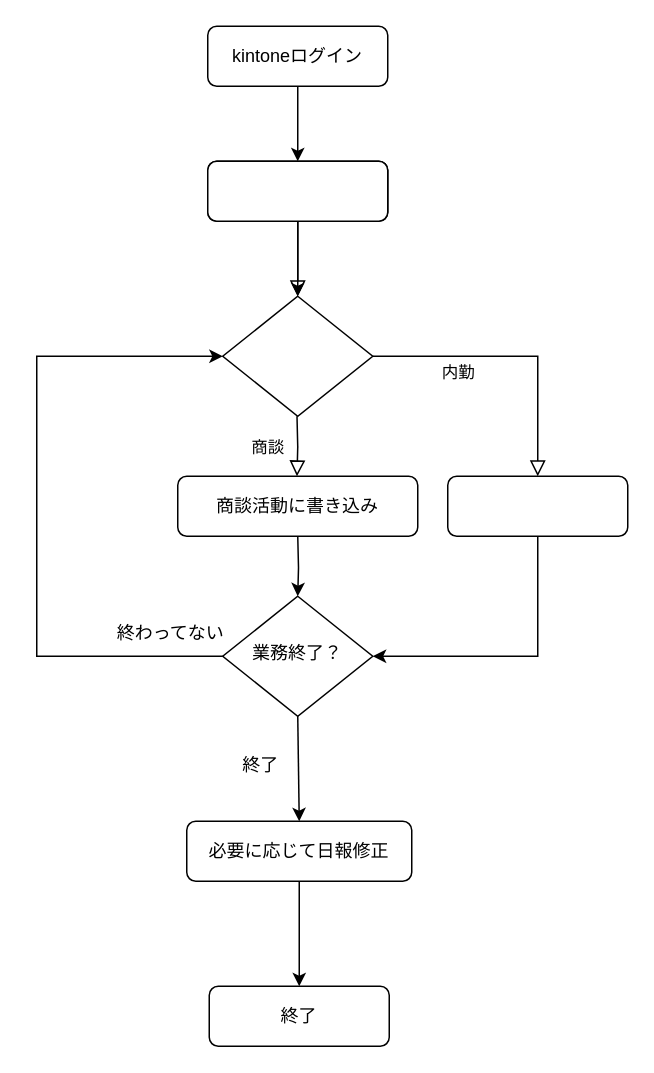
The diagram is 654 pixels wide and 1073 high, and some of its shapes have lost their labels. Here are the shapes that lost their labels. From the top down, the centre of each, then its label:
At pixel 297 190: "01.営業日報を作成".
At pixel 297 355: "業務内容は？".
At pixel 537 505: "内勤活動に書き込み".
